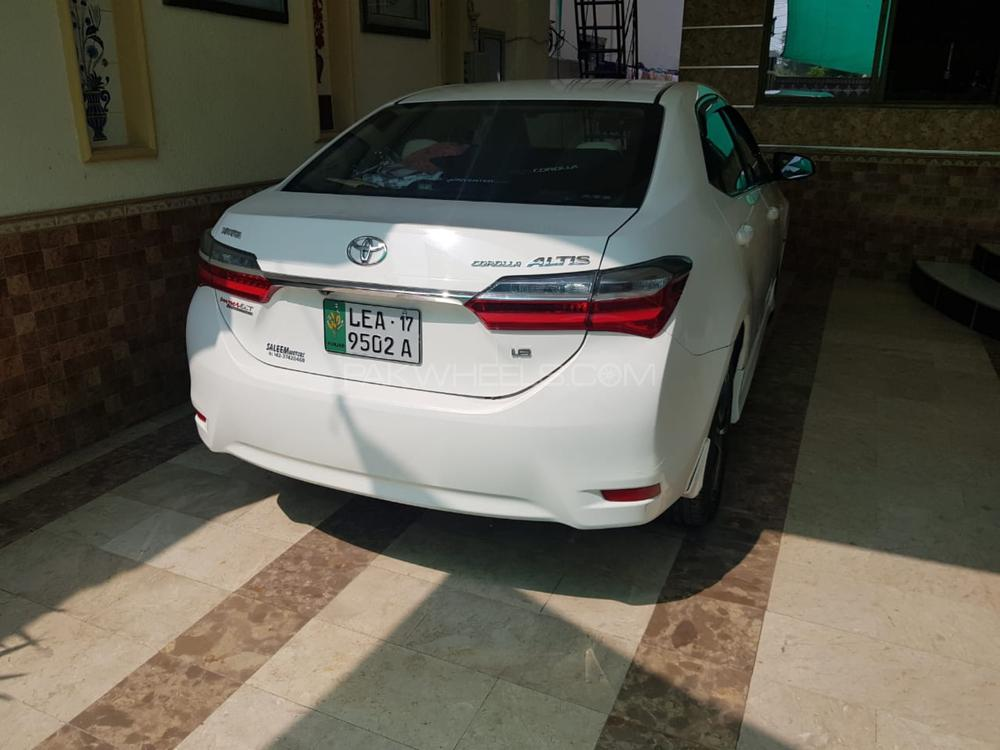plate: (320, 295, 427, 367)
